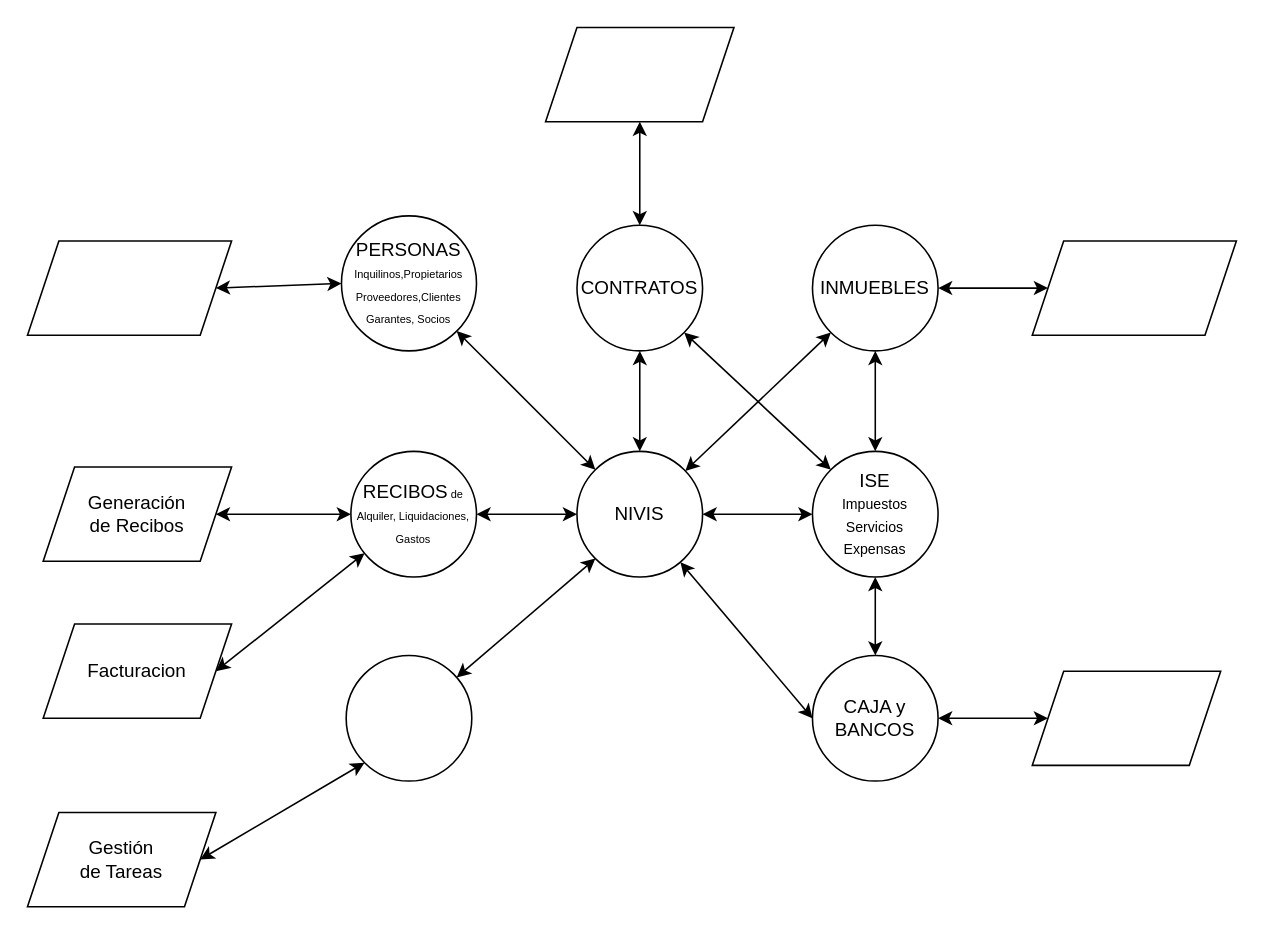
This 1264x934 diagram has some shape labels left out. The centre of each missing label's shape, as x and y in pixels:
ABM de Contratos: (639,74)
ABM de Inmuebles: (1133,287)
ABM de Personas: (129,287)
Ingresos, Egresos Transferencias: (1126,717)
Tareas: (408,717)
